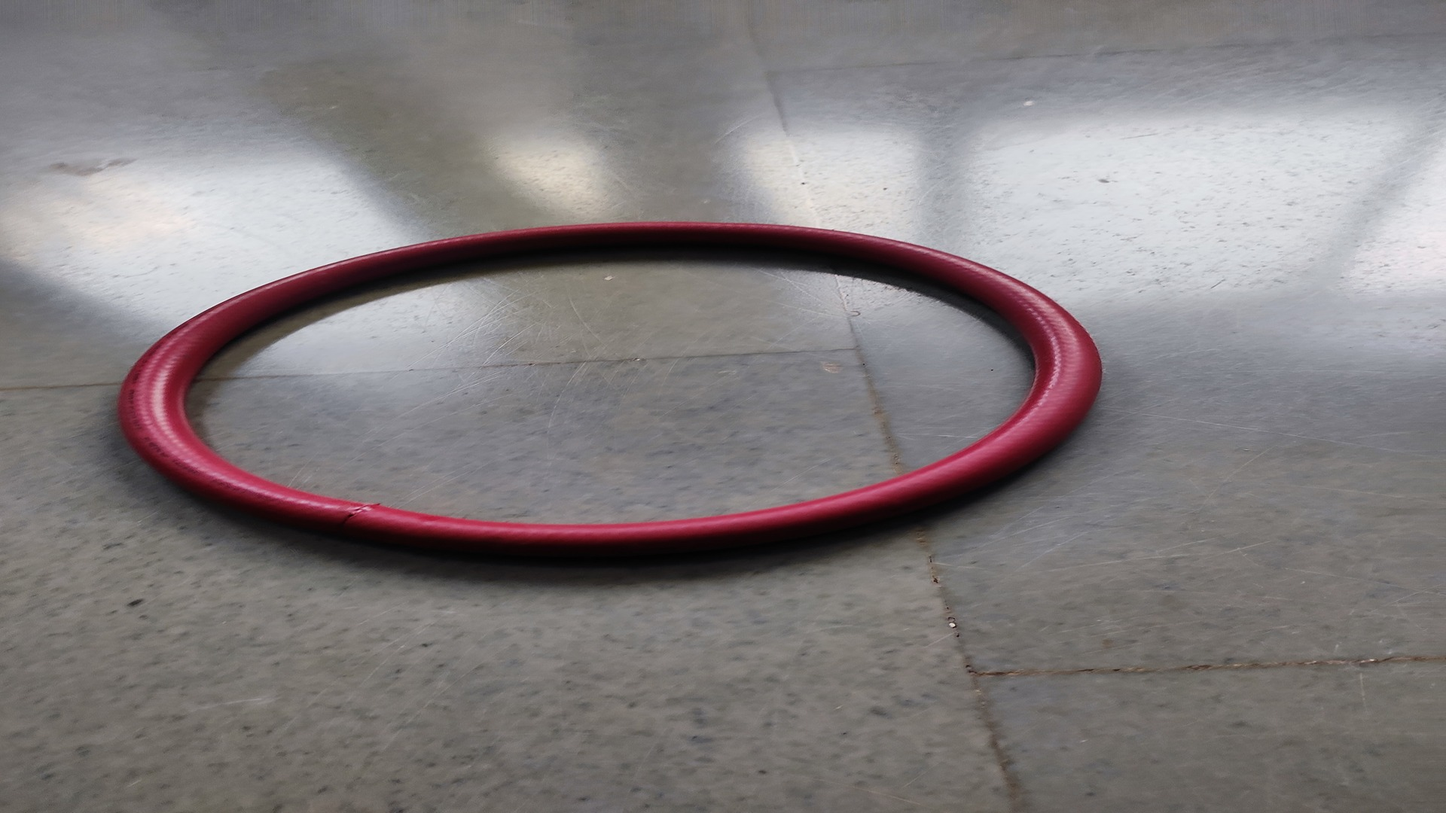Red ring: (114, 220, 1100, 556)
